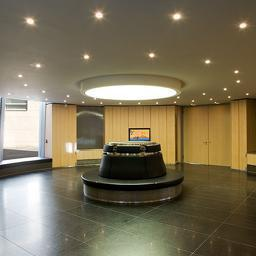Puerta: (184, 105, 231, 165)
Ventana: (2, 99, 45, 157)
